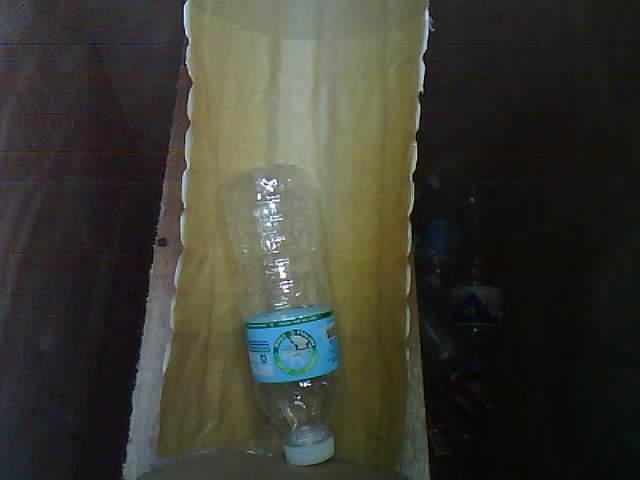small_bottle: (195, 153, 368, 480)
